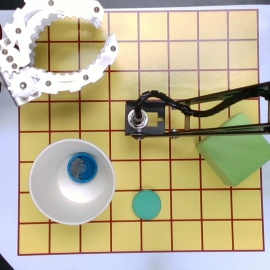cup_blue: (28, 139, 116, 225)
green: (132, 190, 162, 220)
